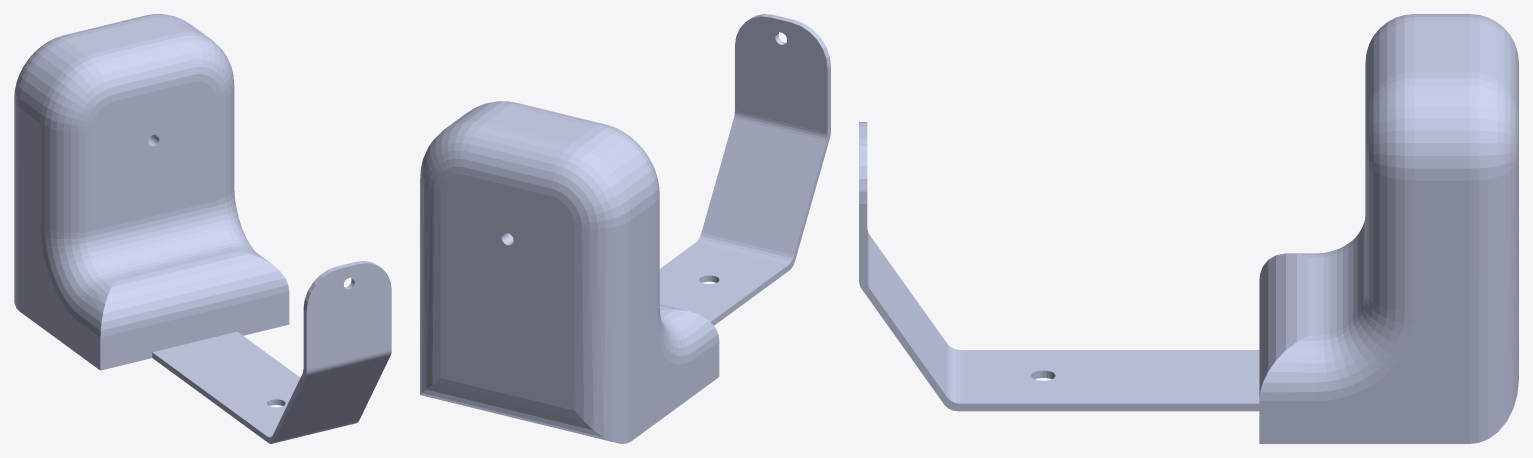
Rendered from psm_base.obj.
3 renders of one model, left to right at view 1: azimuth 30°, elevation 25°; view 2: azimuth 150°, elevation 25°; view 3: azimuth 270°, elevation 25°, orthographic. The views are drawn at different scales.
Parts seen in each view (by area): view 1: ActorShape0_0-Mesh; view 2: ActorShape0_0-Mesh; view 3: ActorShape0_0-Mesh.
Boxes of the visible parts, x1,y1,x2,y2 form: ActorShape0_0-Mesh: (14, 14, 391, 443); ActorShape0_0-Mesh: (420, 14, 830, 443); ActorShape0_0-Mesh: (859, 14, 1518, 443).
Bounding box in the file's own units: 0.173 × 0.228 × 0.404.
